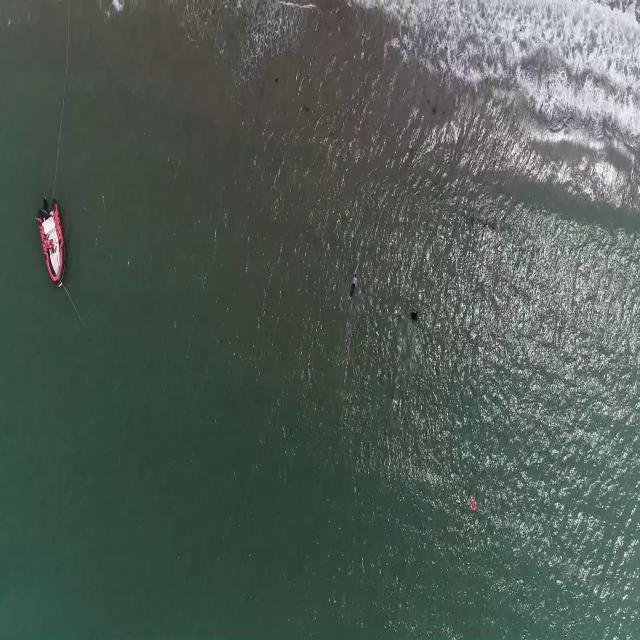boat: (35, 198, 65, 286)
life_buoy: (469, 496, 478, 512)
person: (349, 266, 362, 300), (410, 304, 419, 323)
